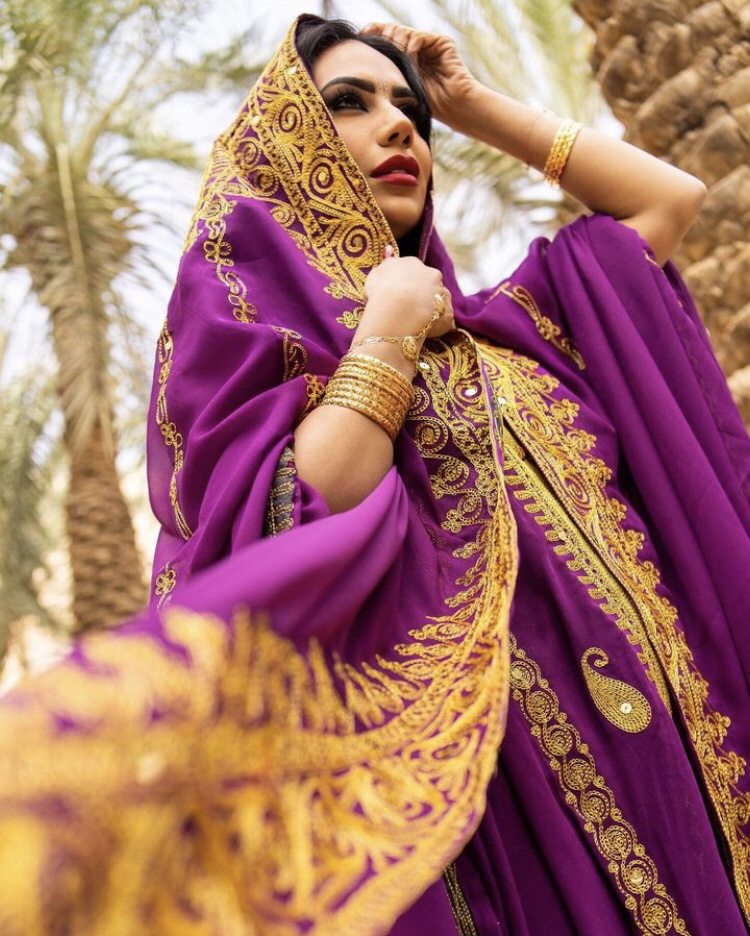Saudi_Founding_Day: (1, 11, 750, 936)
